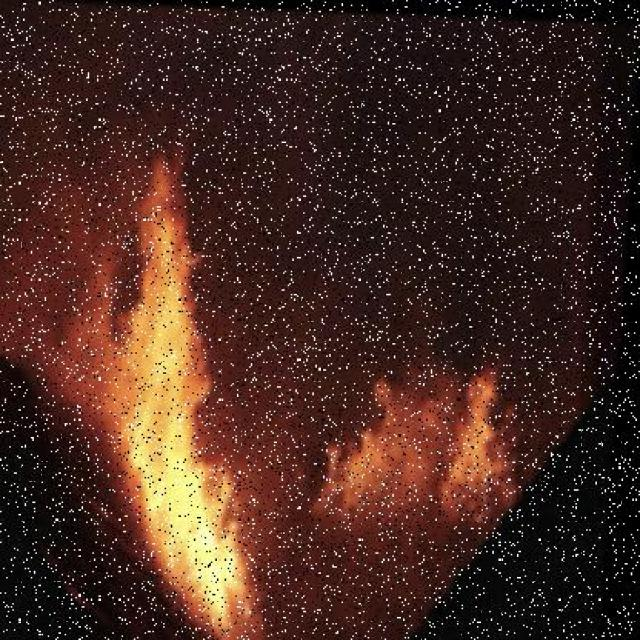fire: (17, 177, 563, 640)
